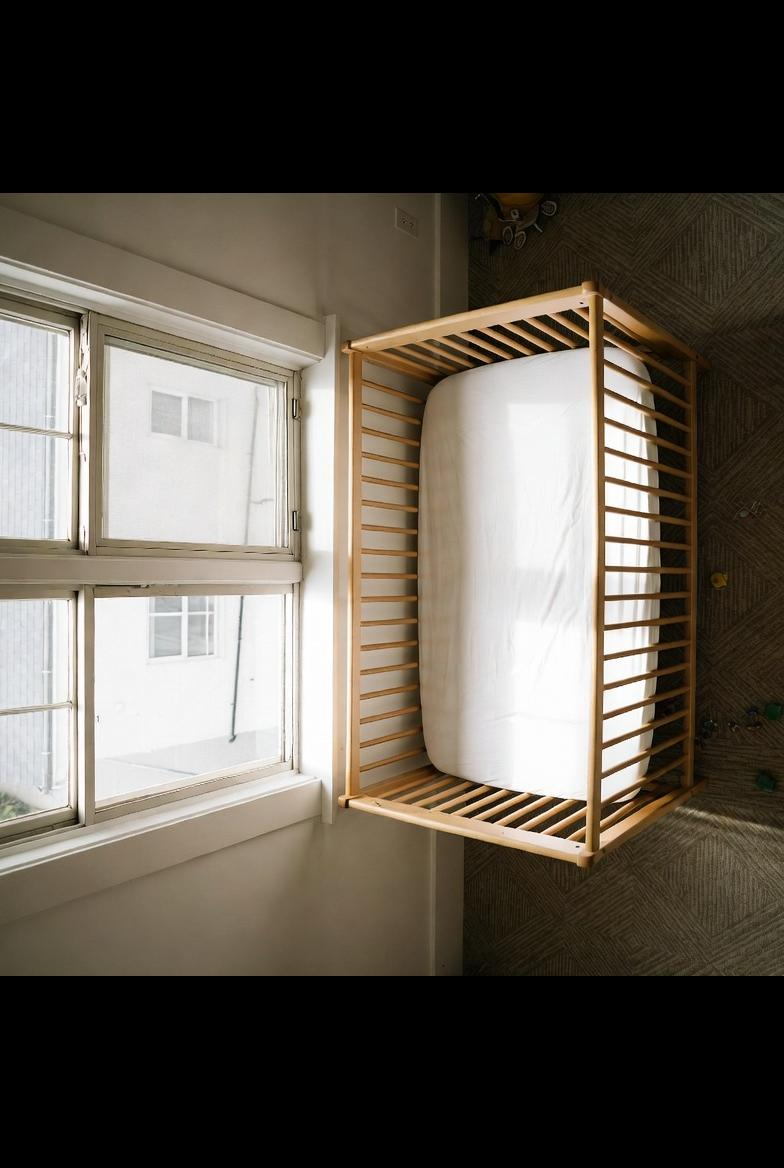crib: (340, 281, 707, 865)
